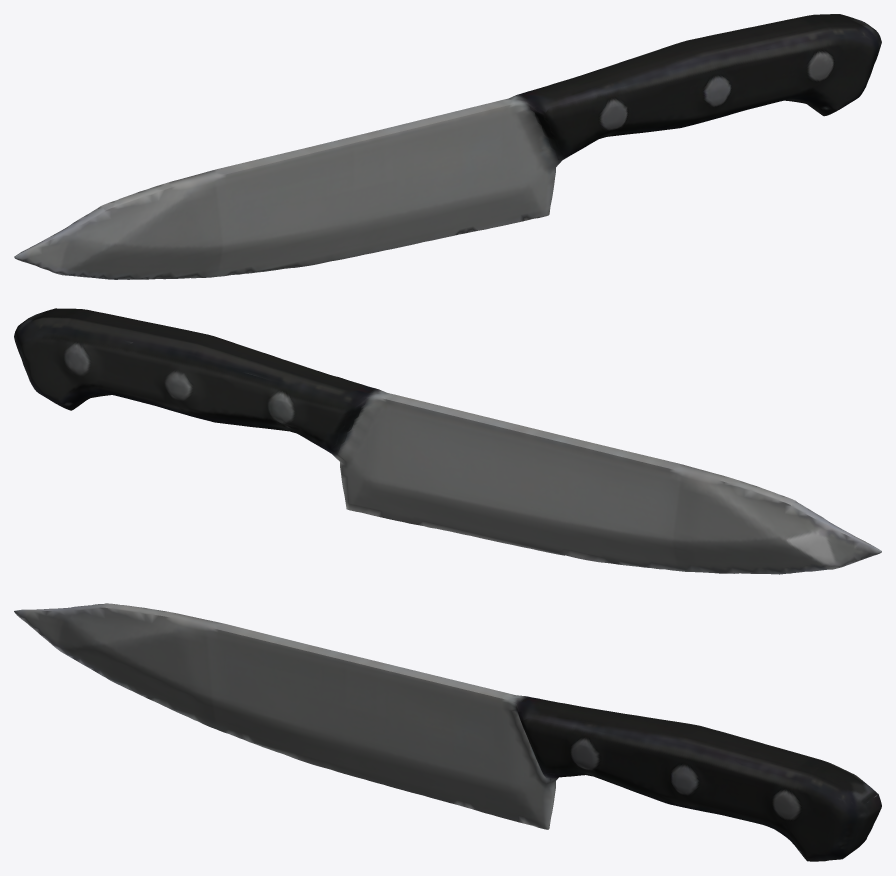
Rendered from chef_knife.glb.
3 views of the same model, one above another, from view 1: azimuth 30°, elevation 25°; view 2: azimuth 150°, elevation 25°; view 3: azimuth 330°, elevation 25° (orthographic).
Visible parts, largest first — view 1: KitchenKnife; view 2: KitchenKnife; view 3: KitchenKnife.
Boxes of the visible parts, <box> form: KitchenKnife: <box>14,14,881,279</box>; KitchenKnife: <box>14,308,881,574</box>; KitchenKnife: <box>14,603,881,861</box>.
Bounding box in the file's own units: 0.3 × 0.045 × 0.0215.
1 material, 1 textured.
